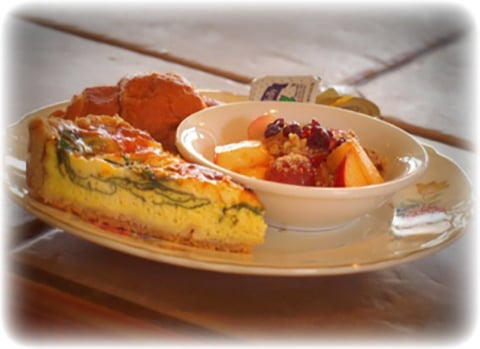soup: (26, 112, 268, 255)
sushi: (174, 98, 428, 233)
